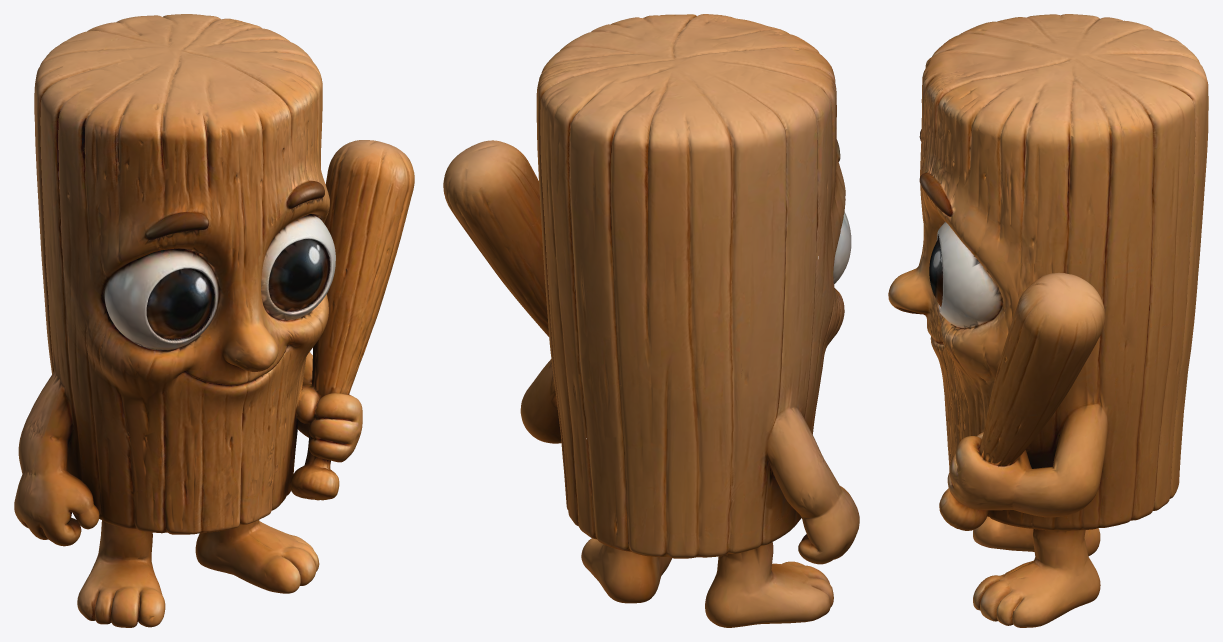
Rendered from tung-tung-tung.glb.
3 renders of one model, left to right at view 1: azimuth 30°, elevation 25°; view 2: azimuth 150°, elevation 25°; view 3: azimuth 270°, elevation 25°, orthographic. The views are drawn at different scales.
Parts seen in each view (by area): view 1: tripo_node_f715cbcc-d47e-4f67-b7dd-cb46b8bd26dc; view 2: tripo_node_f715cbcc-d47e-4f67-b7dd-cb46b8bd26dc; view 3: tripo_node_f715cbcc-d47e-4f67-b7dd-cb46b8bd26dc.
Boxes of the visible parts, x1,y1,x2,y2 form: tripo_node_f715cbcc-d47e-4f67-b7dd-cb46b8bd26dc: (14,14,414,627); tripo_node_f715cbcc-d47e-4f67-b7dd-cb46b8bd26dc: (443,14,859,627); tripo_node_f715cbcc-d47e-4f67-b7dd-cb46b8bd26dc: (888,14,1208,627).
Size of the model in its own units: 0.7559 by 0.98 by 0.5453.
1 material, 1 textured.
